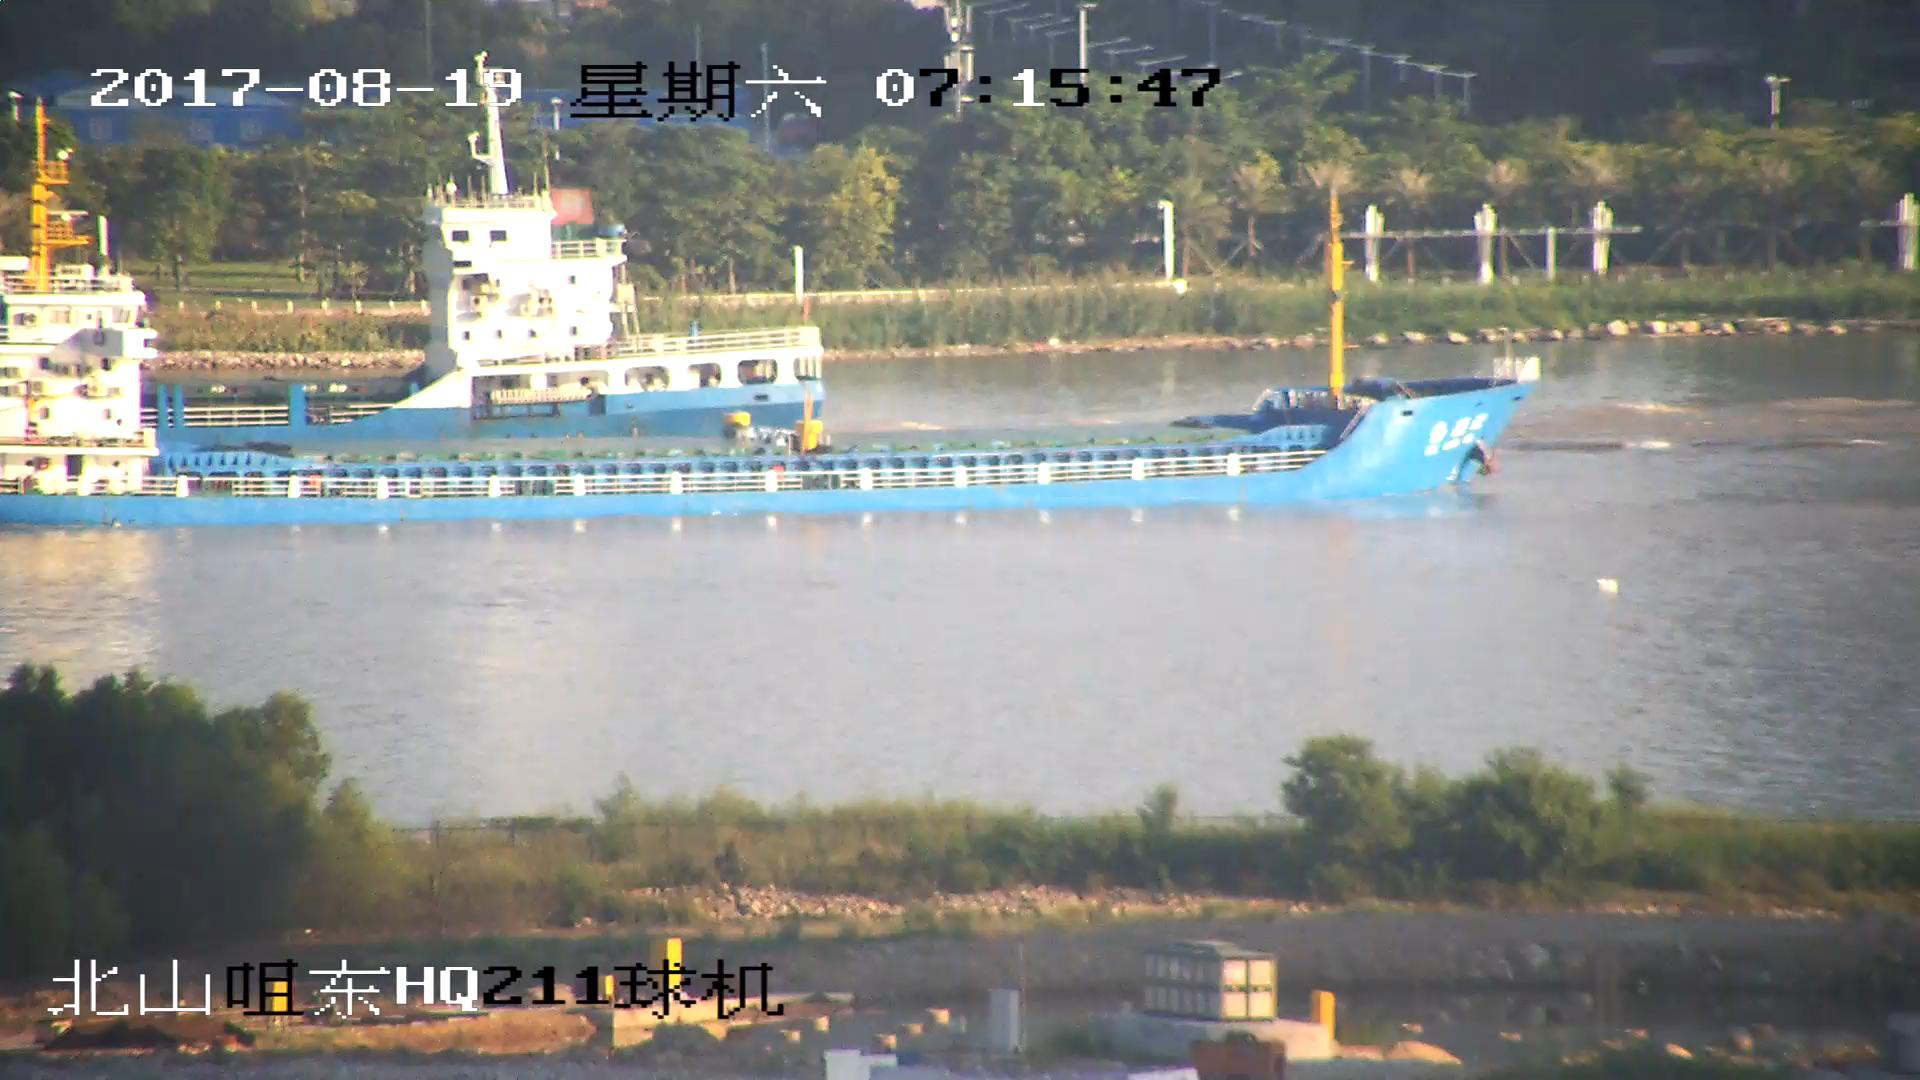general cargo ship: (1, 106, 1542, 526), (1, 108, 834, 420)
